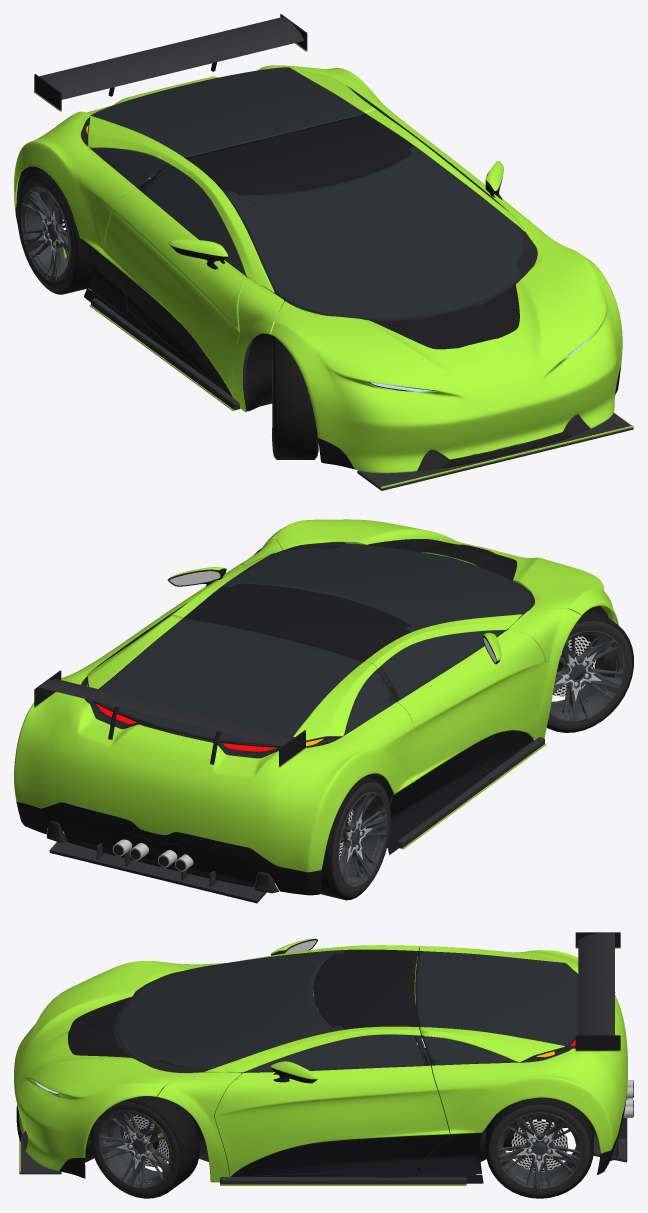
File: voltage_gt.glb
3 views of the same model, one above another, from view 1: azimuth 30°, elevation 25°; view 2: azimuth 150°, elevation 25°; view 3: azimuth 270°, elevation 25° (orthographic). The views are drawn at different scales.
Parts seen in each view (by area): view 1: BodyHood, BodyWindshield, BodyRearwindow, VoltageKit, BodyDoorRColor1, BodyRearPanelsColor1, BodyRoofPanel, BodyPillars, BodyHoodTopgrill, WheelFrontR, BodyPanelsColor2, BodyUnderside (+8 smaller); view 2: BodyRearPanelsColor1, BodyRearwindow, BodyWindshield, BodyDoorRColor1, BodyPanelsColor2, VoltageKit, BodyRoofPanel, BodyHood, BodyPillars, WheelFrontRRim, BodyDoorRColor2, WheelRearRRim (+8 smaller); view 3: BodyWindshield, BodyDoorLColor1, BodyHood, BodyRearPanelsColor1, BodyRearwindow, VoltageKit, BodyRoofPanel, BodyPillars, BodyDoorLColor2, WheelFrontL, BodyPanelsColor2, WheelRearLRim (+10 smaller).
Part boxes in pixels (x1=…): BodyHood: x1=271, y1=240, x2=622, y2=473; BodyWindshield: x1=223, y1=145, x2=523, y2=318; BodyRearwindow: x1=90, y1=67, x2=365, y2=157; VoltageKit: x1=34, y1=14, x2=633, y2=490; BodyDoorRColor1: x1=100, y1=188, x2=246, y2=397; BodyRearPanelsColor1: x1=14, y1=65, x2=409, y2=252; BodyRoofPanel: x1=185, y1=114, x2=412, y2=194; BodyPillars: x1=168, y1=110, x2=570, y2=412; BodyHoodTopgrill: x1=370, y1=285, x2=519, y2=349; WheelFrontR: x1=272, y1=337, x2=318, y2=459; BodyPanelsColor2: x1=15, y1=156, x2=621, y2=469; BodyUnderside: x1=16, y1=158, x2=590, y2=473; BodyRearPanelsColor1: x1=14, y1=615, x2=413, y2=872; BodyRearwindow: x1=98, y1=618, x2=363, y2=744; BodyWindshield: x1=222, y1=543, x2=531, y2=632; BodyDoorRColor1: x1=397, y1=630, x2=546, y2=782; BodyPanelsColor2: x1=16, y1=655, x2=615, y2=895; VoltageKit: x1=34, y1=670, x2=546, y2=903; BodyRoofPanel: x1=184, y1=583, x2=410, y2=661; BodyHood: x1=270, y1=519, x2=618, y2=625; BodyPillars: x1=170, y1=537, x2=581, y2=740; WheelFrontRRim: x1=549, y1=630, x2=624, y2=721; BodyDoorRColor2: x1=412, y1=730, x2=533, y2=808; WheelRearRRim: x1=337, y1=792, x2=387, y2=887; BodyWindshield: x1=118, y1=950, x2=344, y2=1069; BodyDoorLColor1: x1=214, y1=1065, x2=449, y2=1176; BodyHood: x1=14, y1=961, x2=189, y2=1170; BodyRearPanelsColor1: x1=419, y1=946, x2=627, y2=1153; BodyRearwindow: x1=415, y1=951, x2=578, y2=1046; VoltageKit: x1=19, y1=932, x2=633, y2=1185; BodyRoofPanel: x1=313, y1=949, x2=418, y2=1029; BodyPillars: x1=157, y1=945, x2=420, y2=1182; BodyDoorLColor2: x1=231, y1=1134, x2=449, y2=1176; WheelFrontL: x1=90, y1=1094, x2=200, y2=1198; BodyPanelsColor2: x1=16, y1=1045, x2=627, y2=1183; WheelRearLRim: x1=497, y1=1112, x2=582, y2=1189.
Size of the model in its own units: 2.54 by 1.17 by 4.4.
16 materials, 1 textured.
